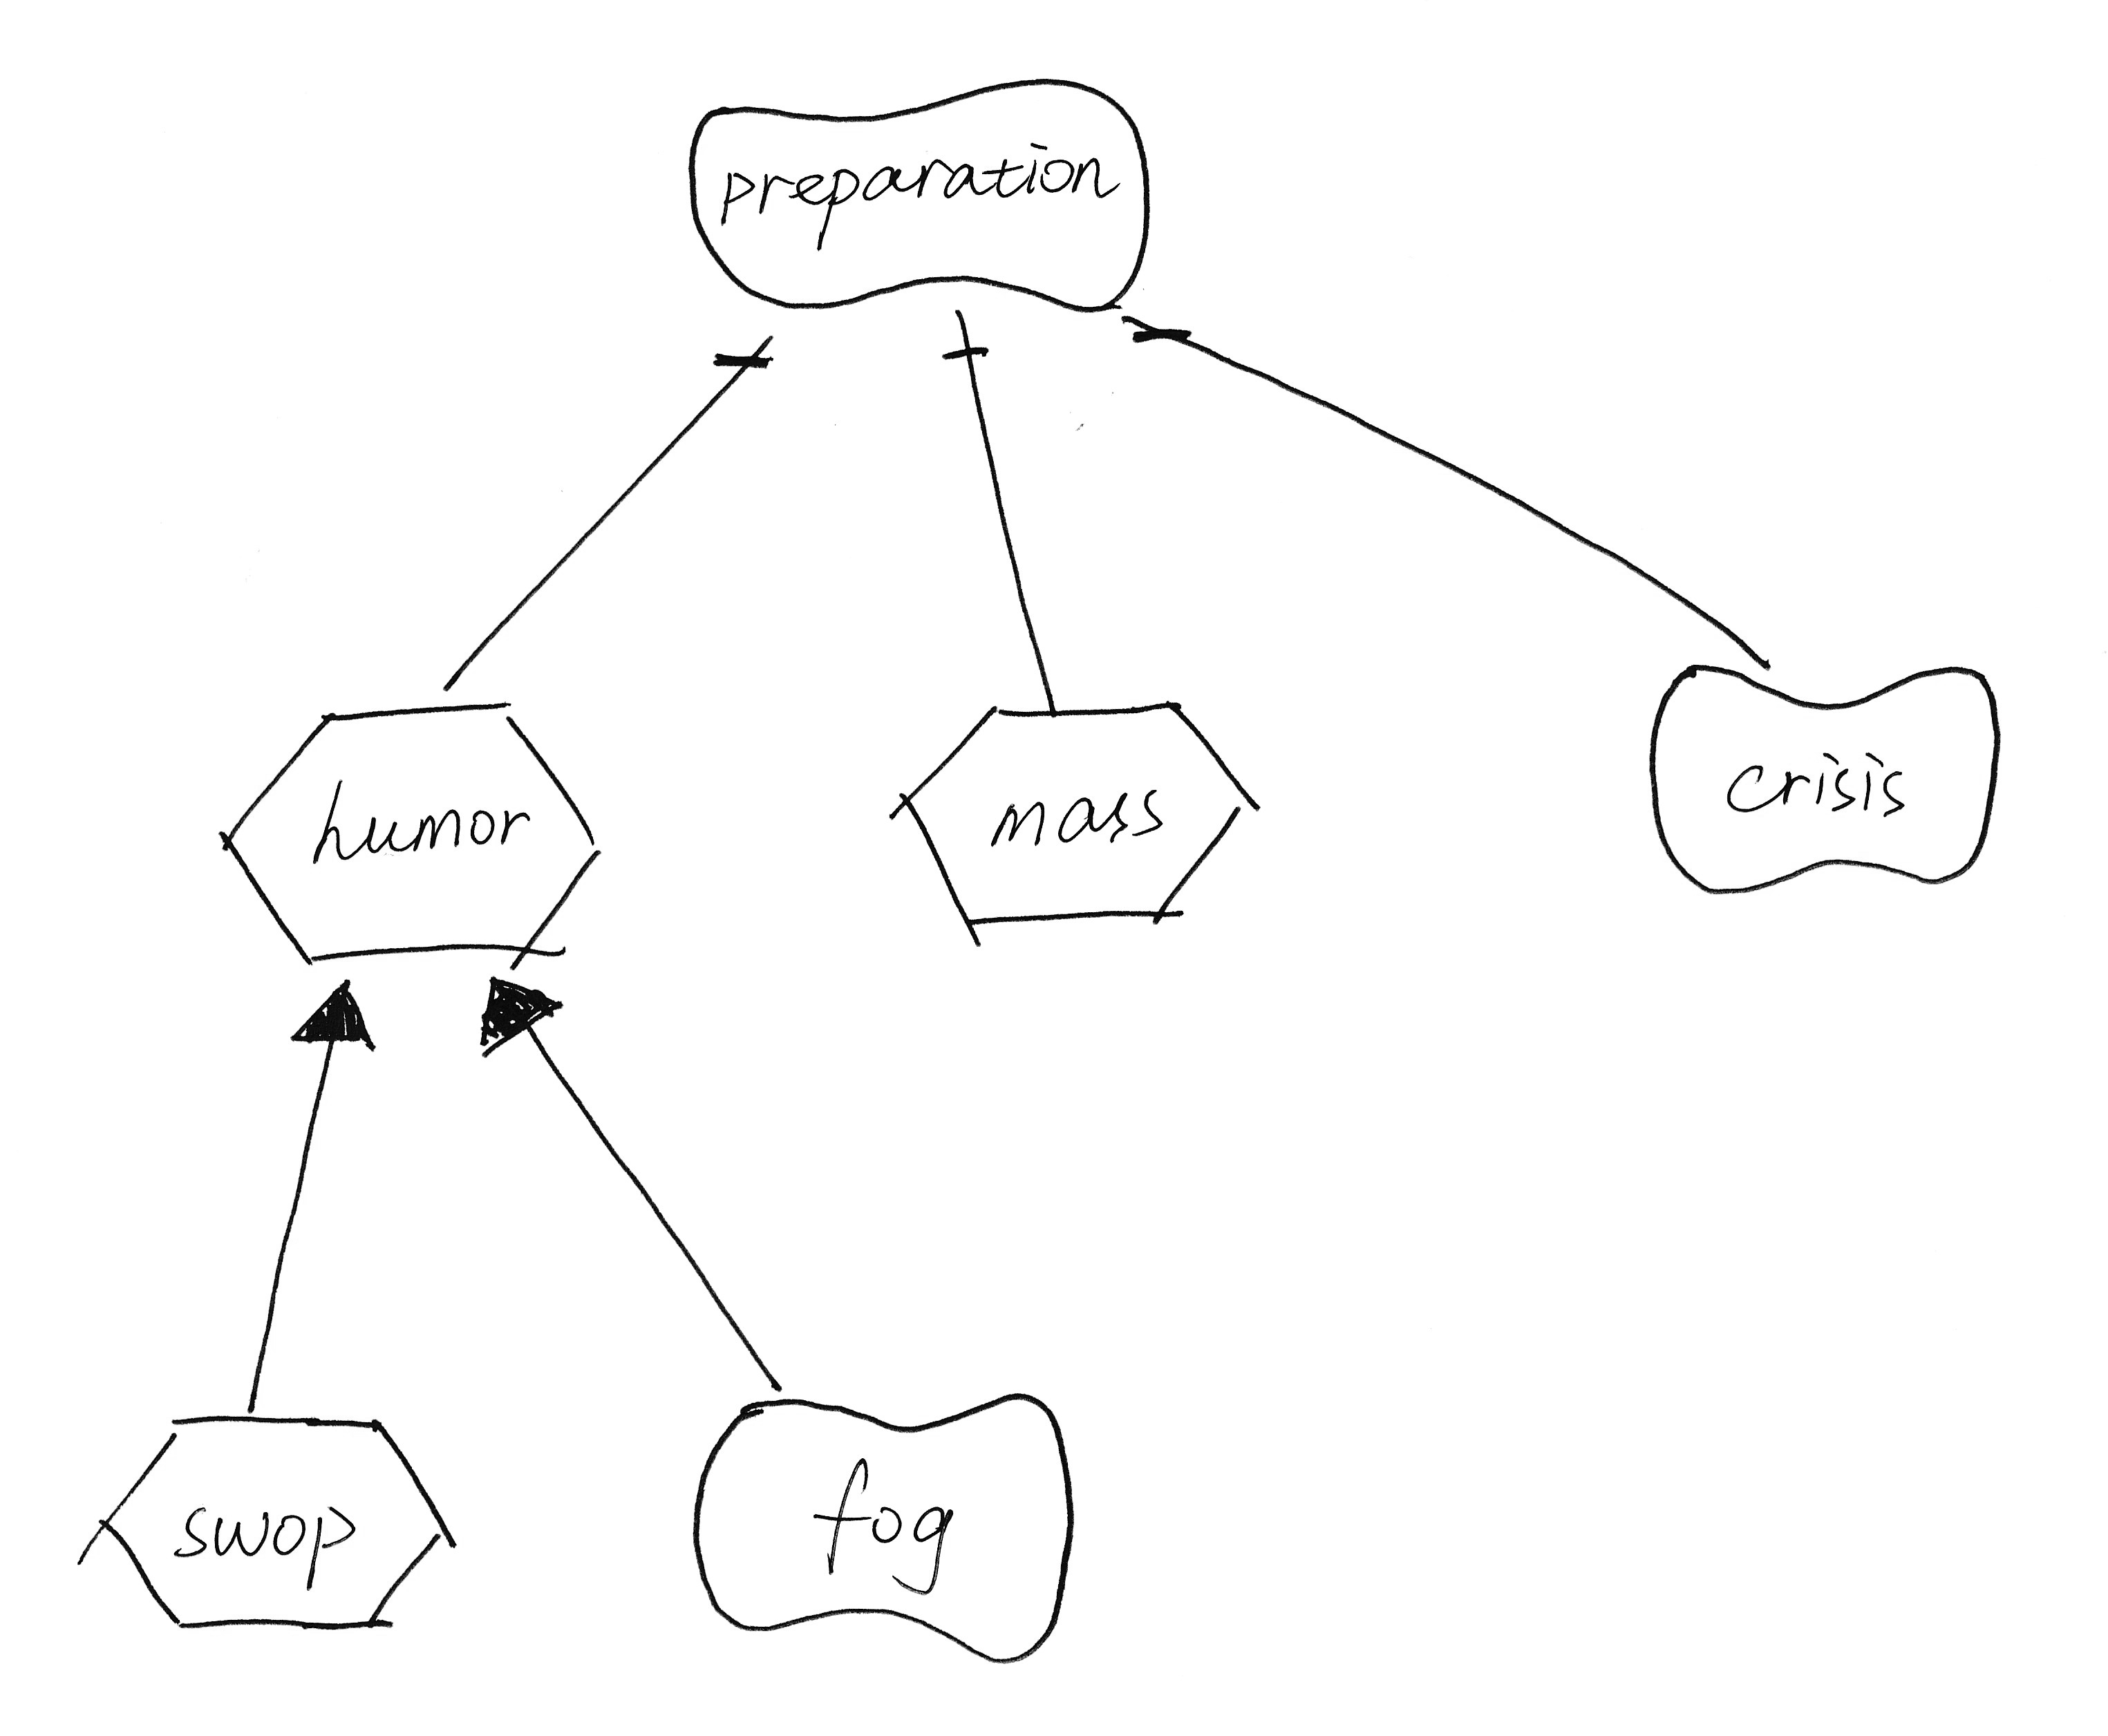and: (1128, 310, 1231, 383), (916, 318, 1014, 395), (702, 327, 793, 408)
or: (452, 961, 587, 1067), (282, 966, 390, 1076)
quality: (665, 61, 1170, 331), (676, 1377, 1087, 1680), (1607, 644, 2024, 917)
task: (200, 684, 613, 975), (63, 1388, 483, 1659), (879, 684, 1275, 962)
